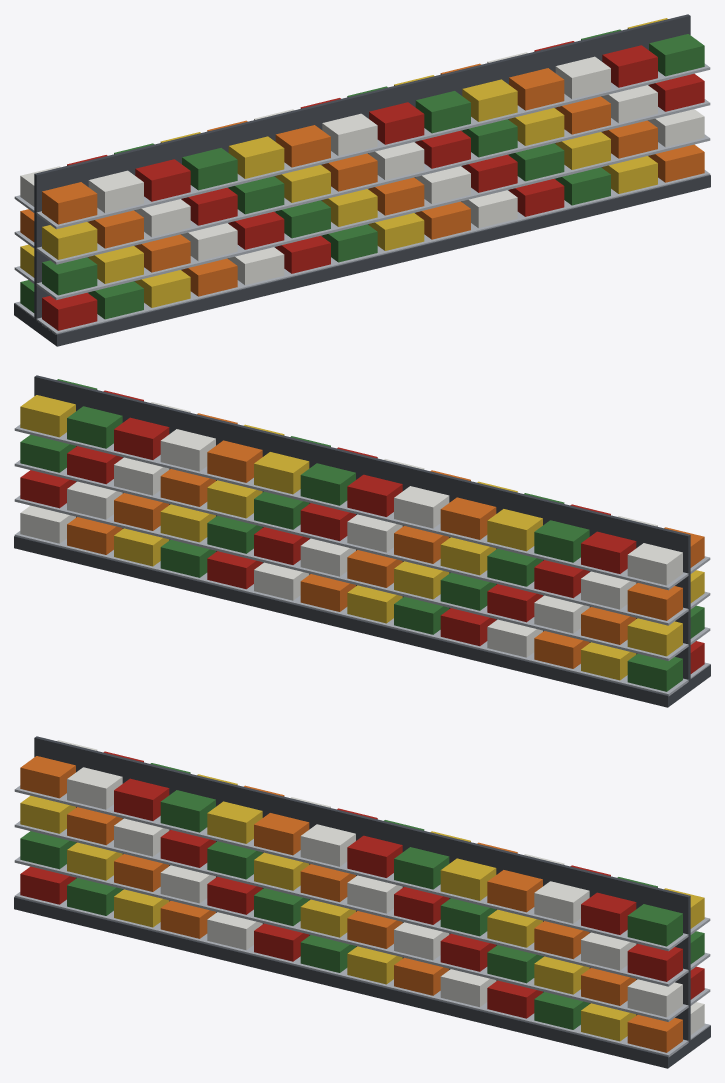
The model's file is grocery aisle.glb.
3 renders of one model, top to bottom at view 1: azimuth 30°, elevation 25°; view 2: azimuth 150°, elevation 25°; view 3: azimuth 330°, elevation 25°, orthographic.
Visible parts, largest first — view 1: grocery aisle; view 2: grocery aisle; view 3: grocery aisle.
Boxes of the visible parts, x1,y1,x2,y2 form: grocery aisle: (14,14,710,346); grocery aisle: (14,375,710,707); grocery aisle: (14,736,710,1068).
Size of the model in its own units: 7 by 1.6 by 0.8.
